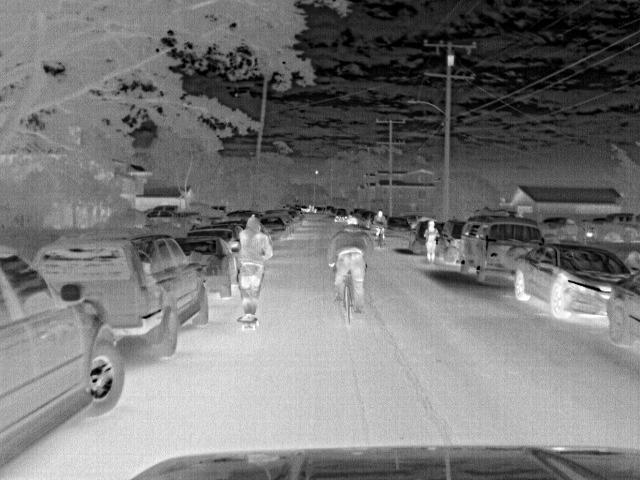car: (1, 248, 128, 470), (32, 233, 211, 357), (513, 244, 638, 318), (461, 218, 542, 282), (178, 234, 234, 301), (605, 270, 640, 352), (436, 219, 483, 262), (155, 204, 204, 229), (538, 217, 580, 243), (144, 208, 186, 229), (384, 216, 413, 237), (213, 208, 251, 223), (261, 216, 284, 240), (409, 224, 426, 254), (276, 214, 296, 236)
person: (234, 214, 273, 320), (332, 215, 369, 314), (424, 220, 440, 261), (372, 209, 387, 242)
